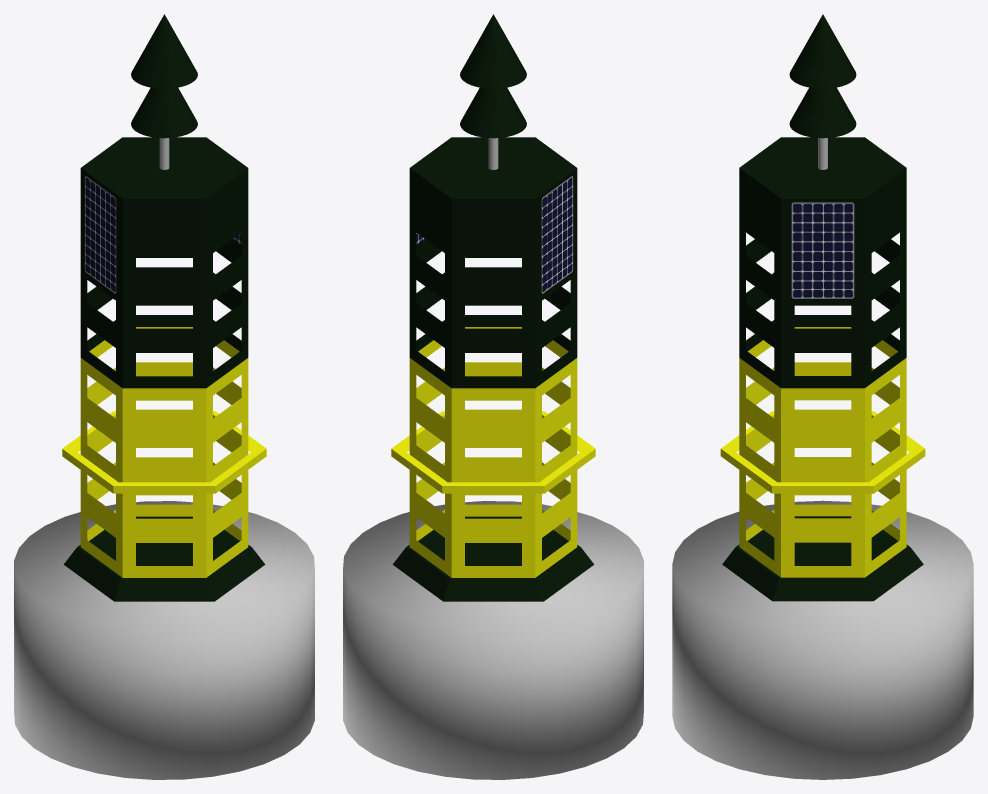
Rendered from Boy-North.gltf.
3 renders of one model, left to right at view 1: azimuth 30°, elevation 25°; view 2: azimuth 150°, elevation 25°; view 3: azimuth 270°, elevation 25°, orthographic.
Parts seen in each view (by area): view 1: Cylinder.017, Cylinder.016, Cylinder.018, Cylinder.019, Plane.009, Cone 1.001, Cone 1.006; view 2: Cylinder.017, Cylinder.016, Cylinder.018, Cylinder.019, Plane.009, Cone 1.001, Cone 1.006; view 3: Cylinder.017, Cylinder.016, Cylinder.018, Plane.008, Cylinder.019, Cone 1.001, Cone 1.006.
Part boxes in pixels (box(x1,y1,x2,y2)): Cylinder.017: box(14, 501, 314, 779); Cylinder.016: box(80, 137, 248, 577); Cylinder.018: box(64, 516, 264, 601); Cylinder.019: box(62, 411, 266, 493); Plane.009: box(84, 175, 116, 294); Cone 1.001: box(131, 14, 197, 88); Cone 1.006: box(131, 87, 197, 138); Cylinder.017: box(343, 501, 643, 779); Cylinder.016: box(409, 137, 577, 577); Cylinder.018: box(393, 516, 593, 601); Cylinder.019: box(391, 411, 595, 493); Plane.009: box(541, 175, 573, 294); Cone 1.001: box(460, 14, 526, 88); Cone 1.006: box(460, 87, 526, 138); Cylinder.017: box(672, 500, 973, 779); Cylinder.016: box(739, 137, 906, 577); Cylinder.018: box(722, 516, 923, 601); Plane.008: box(791, 202, 854, 299); Cylinder.019: box(720, 411, 925, 493); Cone 1.001: box(789, 14, 856, 88); Cone 1.006: box(789, 87, 856, 138).
Size of the model in its own units: 1.8 by 4.63 by 1.8.
Materials: 4 (1 with a texture image).
